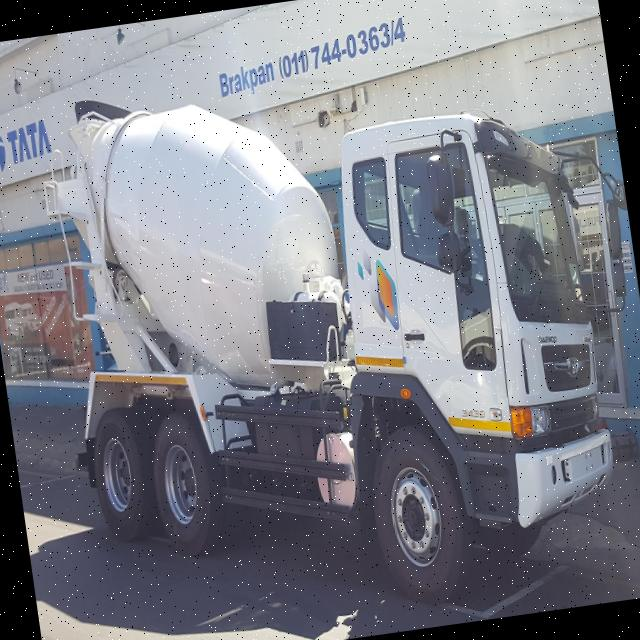Mixer Truck: (29, 46, 630, 640)
